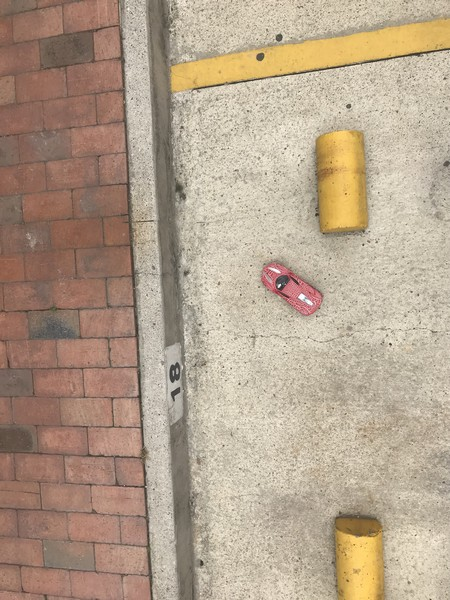RC: (259, 260, 326, 316)
